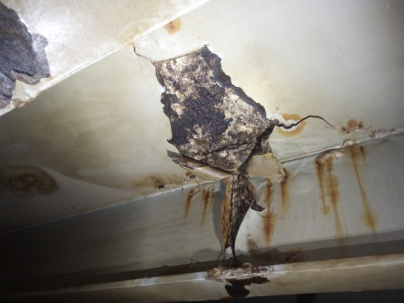corrosion: (135, 52, 291, 179), (0, 0, 55, 119), (182, 171, 254, 259), (338, 144, 384, 234), (311, 153, 351, 245), (255, 173, 288, 241), (4, 160, 63, 197), (212, 273, 277, 300), (155, 14, 192, 36), (341, 120, 368, 145)
